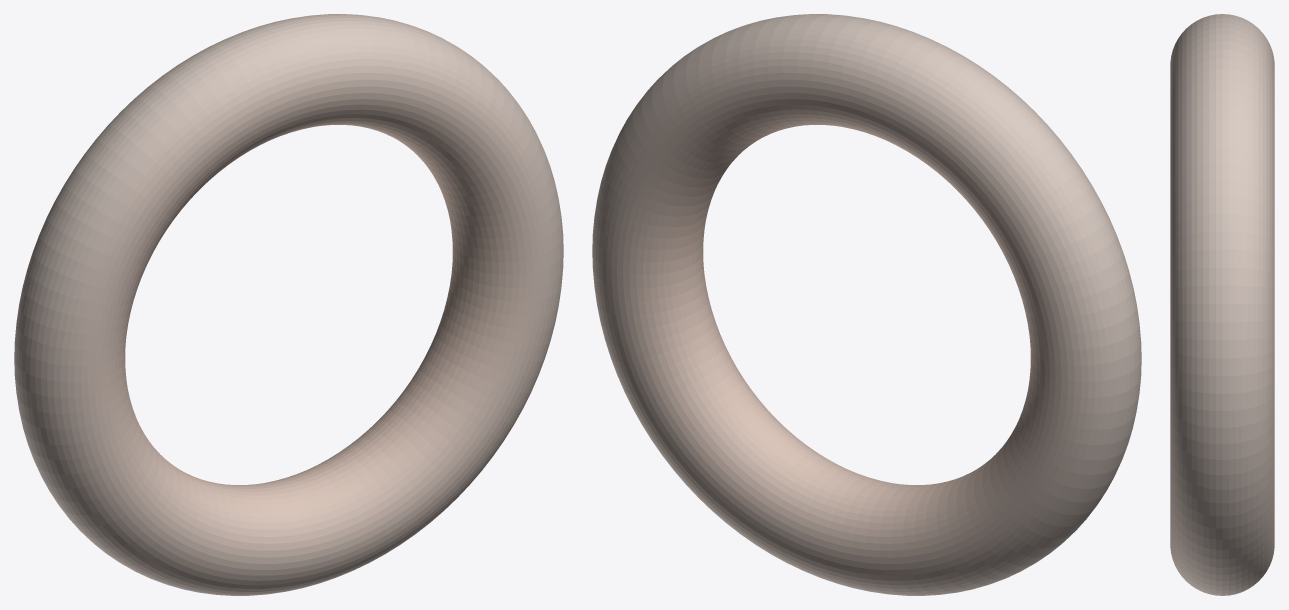
3 renders of one model, left to right at view 1: azimuth 30°, elevation 25°; view 2: azimuth 150°, elevation 25°; view 3: azimuth 270°, elevation 25°, orthographic. The views are drawn at different scales.
Parts seen in each view (by area): view 1: world; view 2: world; view 3: world.
Part boxes in pixels (box(x1,y1,x2,y2)): world: box(14, 14, 563, 595); world: box(592, 14, 1141, 595); world: box(1170, 14, 1274, 595).
Bounding box in the file's own units: 17.07 × 17.07 × 3.06.
